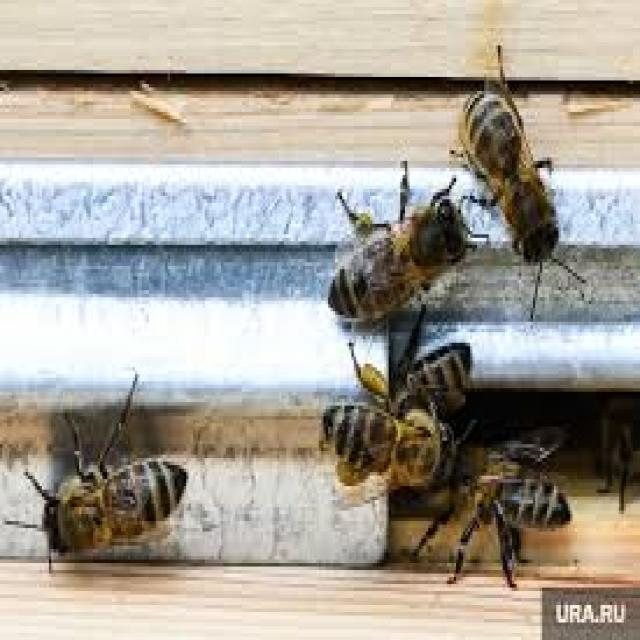Bees: (447, 40, 587, 323), (4, 370, 188, 574), (328, 162, 476, 330), (414, 441, 571, 592), (315, 341, 456, 497)
